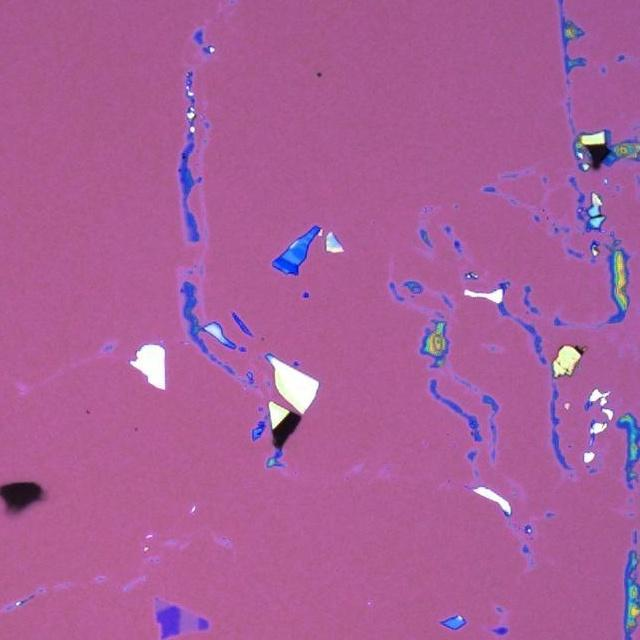monolayer-eWW4: (180, 608, 198, 633), (154, 598, 172, 612)
